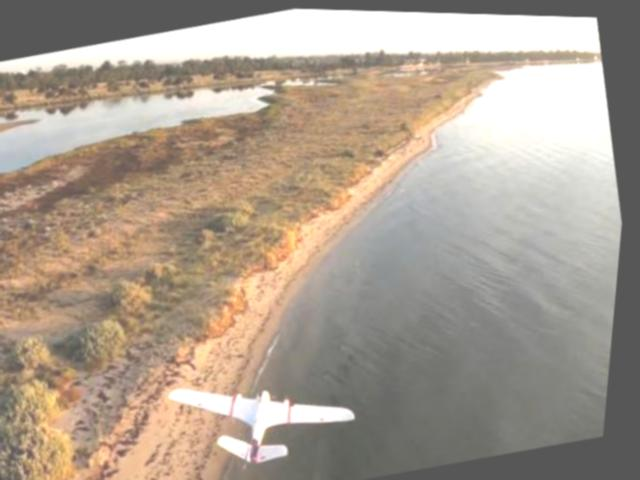uav: (164, 344, 376, 480)
